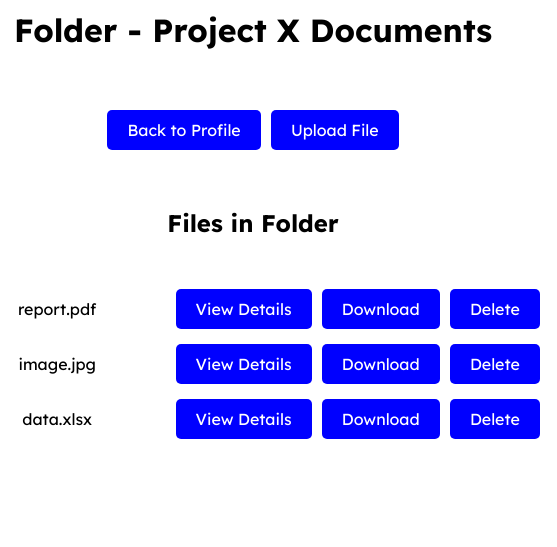
FolderDetails › should display error message if download fetch fails
The width and height of the screenshot is (557, 547).
Expected: the text "image.jpg" is shown, [18, 354, 96, 374]
Click the button "Download" in the row of "image.jpg" at (381, 364), box [322, 344, 440, 384]
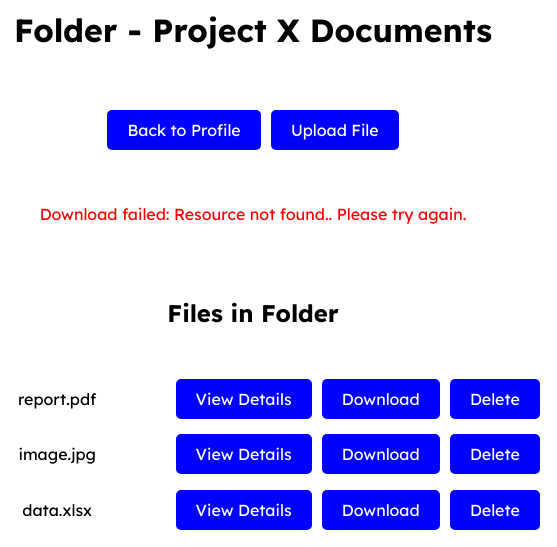
Result: the text "Download failed: Resource not found.. Please try again." is shown at [40, 204, 466, 224]
